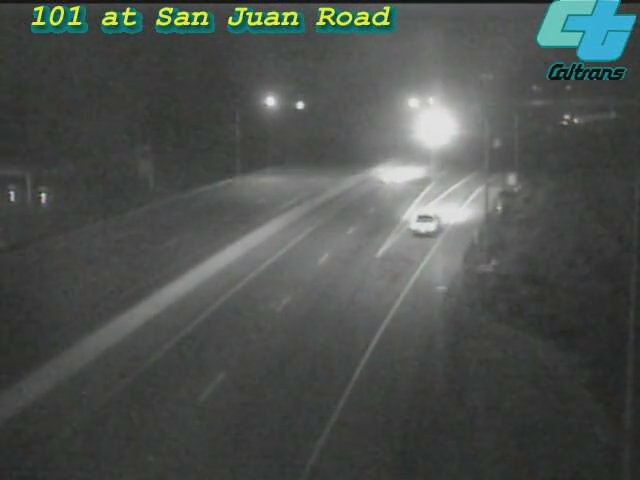vehicle: (361, 131, 441, 211), (380, 188, 460, 268), (409, 106, 459, 156), (545, 94, 595, 144)
